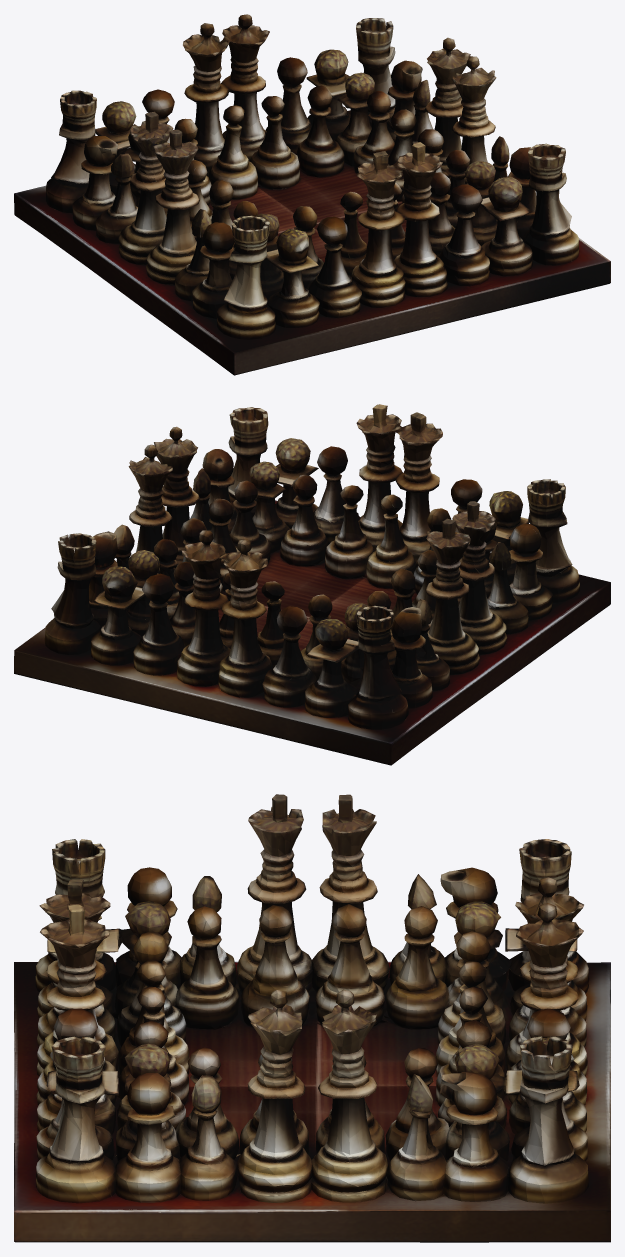
The model's file is wooden-chess-set-3d.jpeg.glb.
3 views of the same model, one above another, from view 1: azimuth 30°, elevation 25°; view 2: azimuth 150°, elevation 25°; view 3: azimuth 270°, elevation 25° (orthographic). The views are drawn at different scales.
Visible parts, largest first — view 1: world; view 2: world; view 3: world.
Boxes of the visible parts, box(x1,y1,x2,y2) form: world: box(14, 14, 610, 375); world: box(14, 404, 610, 765); world: box(14, 794, 610, 1242).
Bounding box in the file's own units: 0.9948 × 0.4214 × 1.
1 material, 1 textured.
